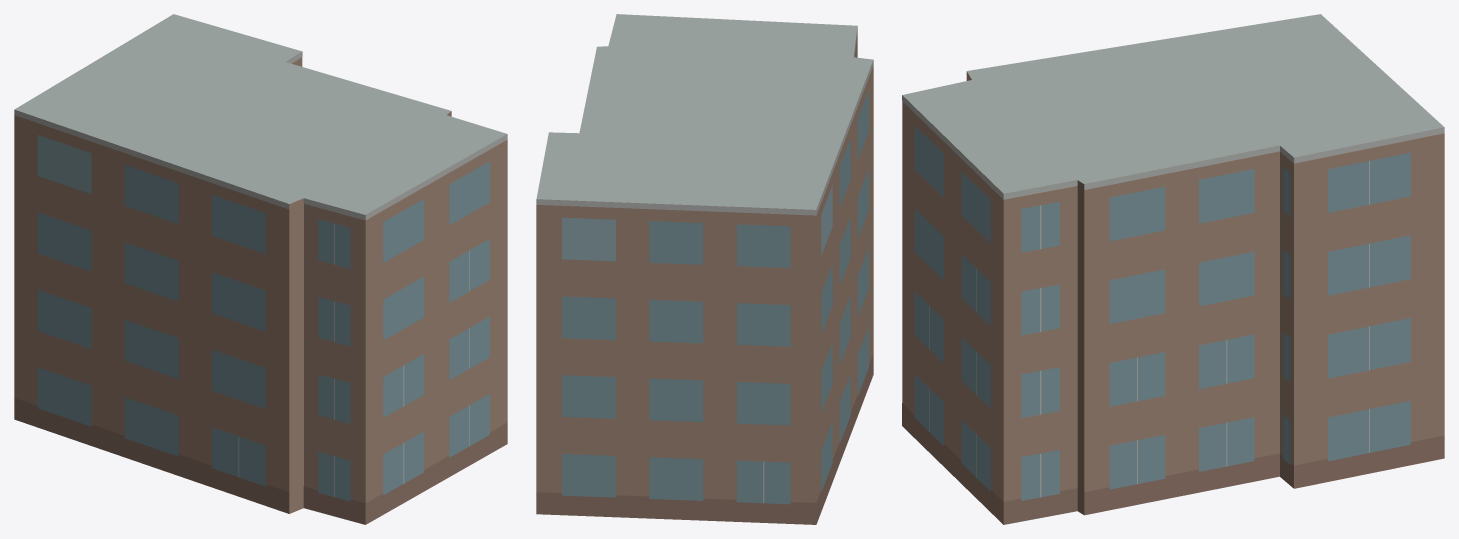
File: survey-upis-32620424.glb
3 renders of one model, left to right at view 1: azimuth 30°, elevation 25°; view 2: azimuth 150°, elevation 25°; view 3: azimuth 270°, elevation 25°, orthographic. The views are drawn at different scales.
Visible parts, largest first — view 1: survey-upis-32620424.tmp; view 2: survey-upis-32620424.tmp; view 3: survey-upis-32620424.tmp.
Part boxes in pixels (x1,y1,x2,y2): survey-upis-32620424.tmp: (14,14,507,524); survey-upis-32620424.tmp: (536,14,873,524); survey-upis-32620424.tmp: (902,14,1444,524).
Size of the model in its own units: 15.91 by 13.65 by 20.28.
